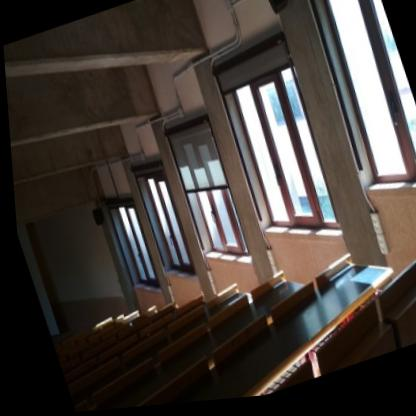Window: (211, 39, 340, 241), (158, 121, 246, 261), (126, 165, 193, 280), (100, 197, 156, 291)
